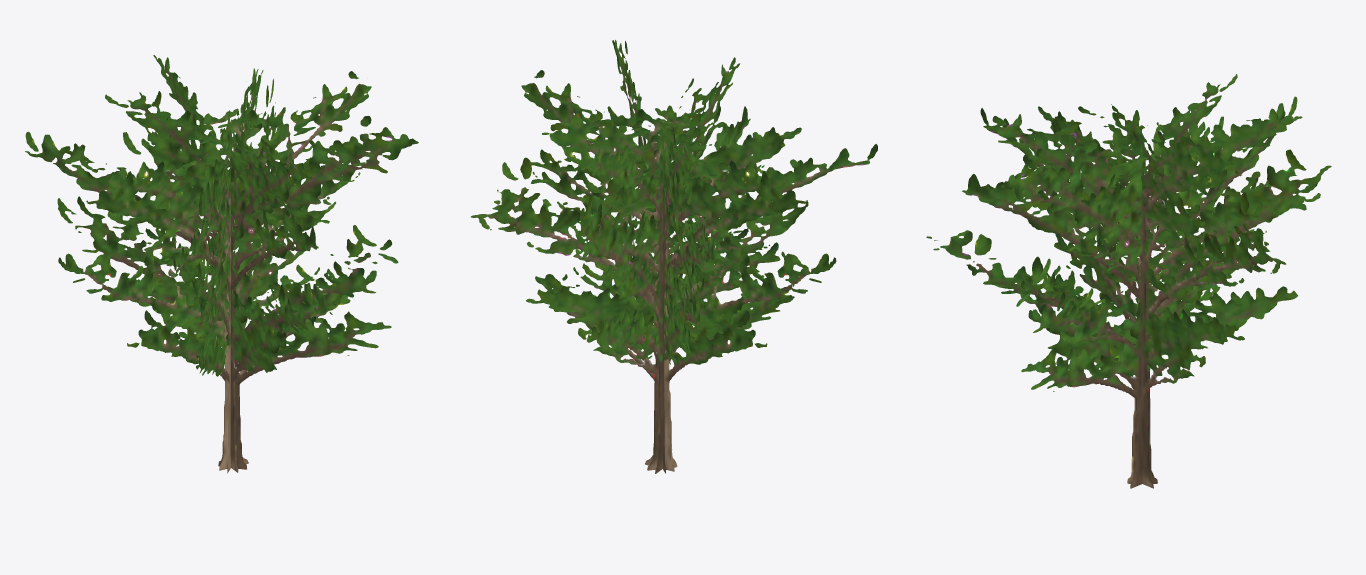
Rendered from b-oak.glb.
3 renders of one model, left to right at view 1: azimuth 30°, elevation 25°; view 2: azimuth 150°, elevation 25°; view 3: azimuth 270°, elevation 25°, orthographic. The views are drawn at different scales.
Visible parts, largest first — view 1: BackgroundTree; view 2: BackgroundTree; view 3: BackgroundTree.
Boxes of the visible parts, box(x1,y1,x2,y2) form: BackgroundTree: box(25, 55, 418, 473); BackgroundTree: box(471, 40, 877, 473); BackgroundTree: box(926, 74, 1331, 488).
Bounding box in the file's own units: 2.27 × 2.4 × 2.52.
Materials: 1 (1 with a texture image).
